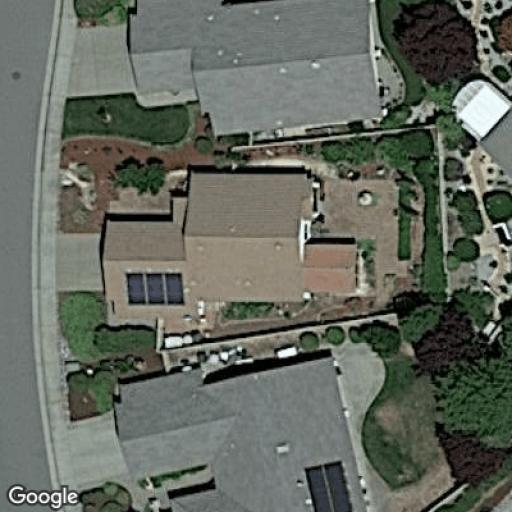solar-panel: (300, 457, 350, 512), (124, 269, 186, 308)
